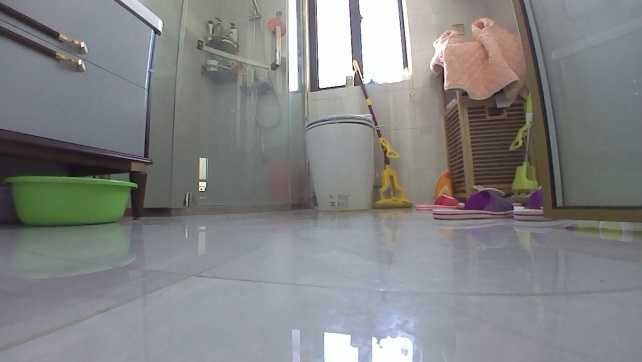slipper: (431, 187, 521, 220)
toilet: (303, 110, 378, 214)
